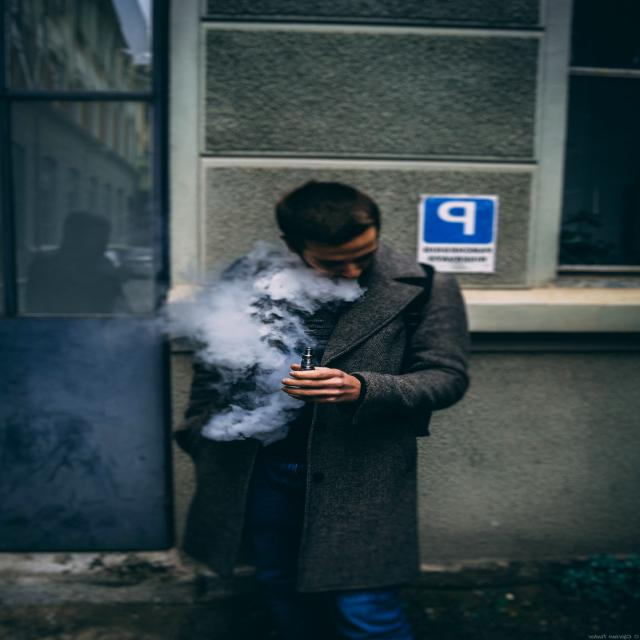adult: (167, 178, 474, 640)
